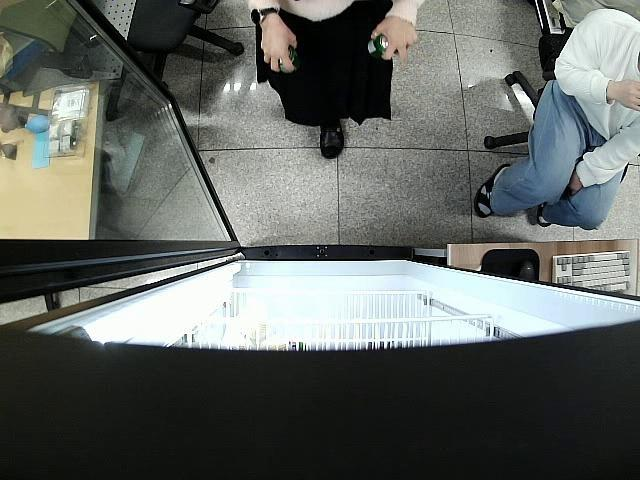12_chilsungCider: (373, 32, 400, 58), (277, 46, 298, 74)
